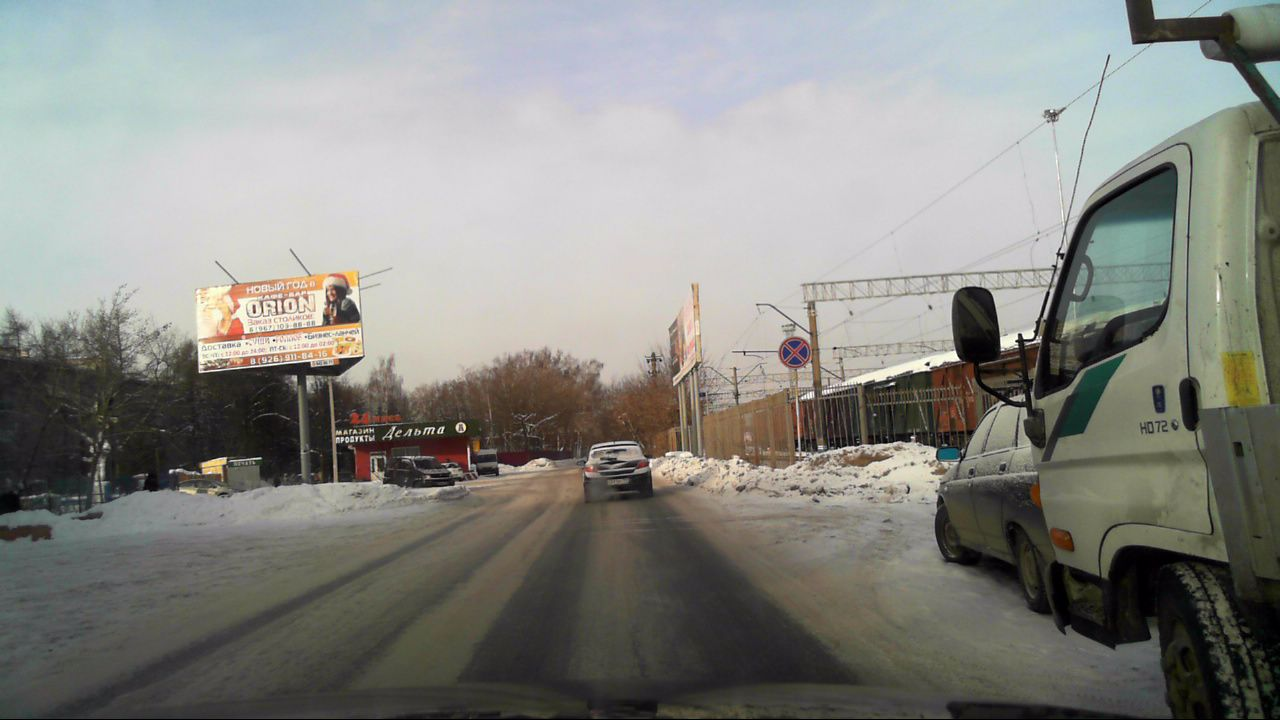No Parking: (779, 336, 811, 367)
